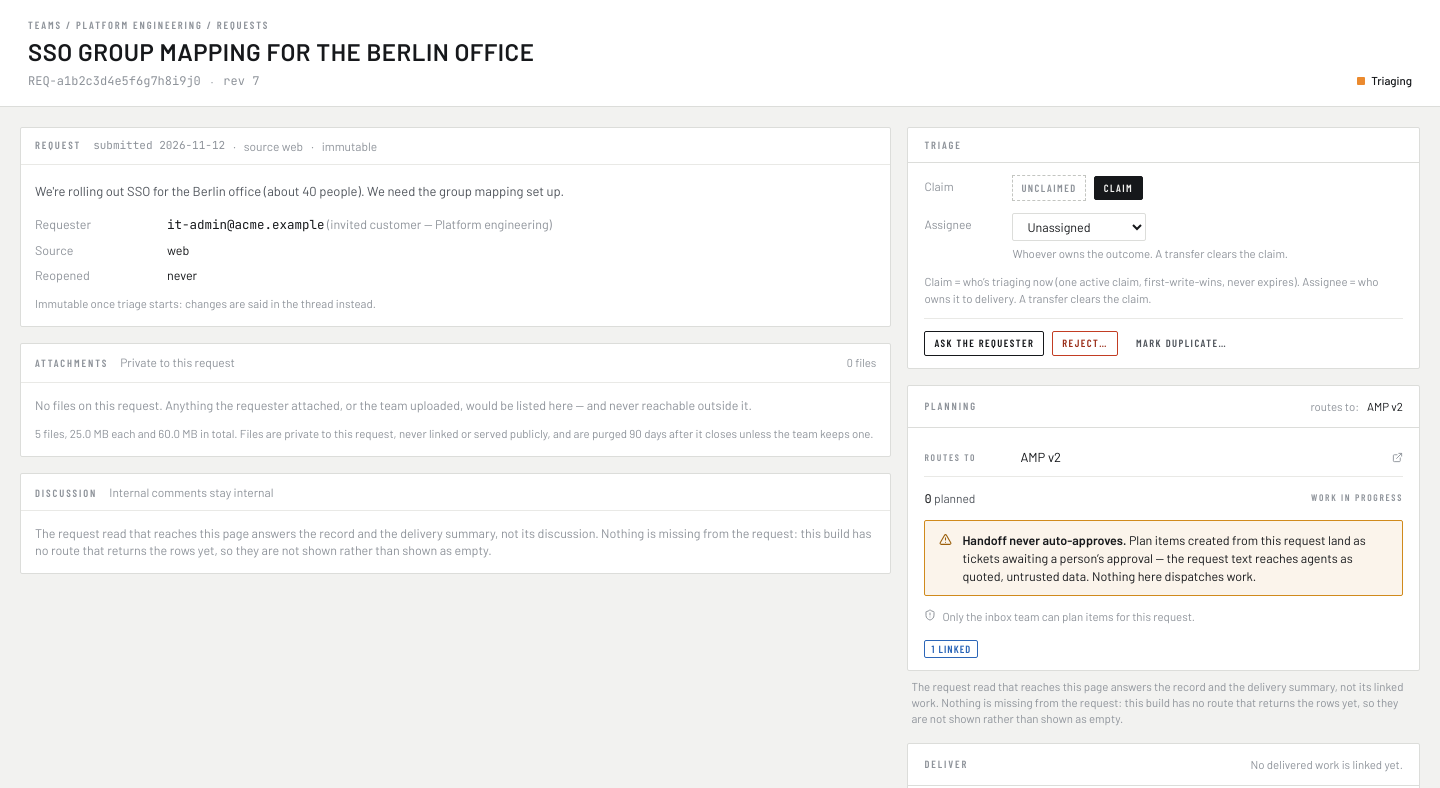
Test case: every approved detail state › re-reads the record on Refresh after a lost claim, so the winner’s claim is what the rail shows
The image size is (1440, 788).
Click the button "Claim": (1118, 188) [1094,176,1143,200]
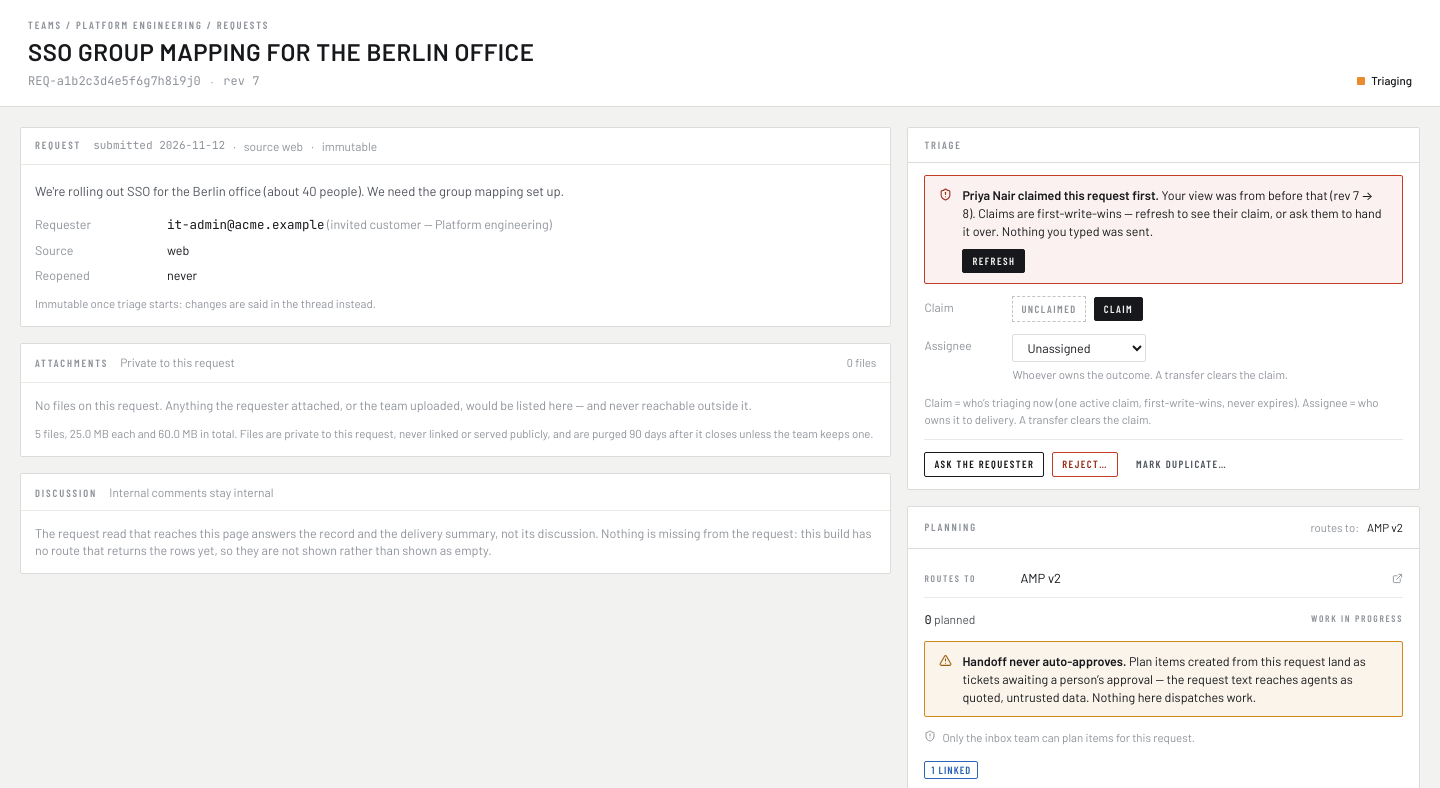
Note: Refresh is the offered action, and it is what moves the rail.
Click the button "Refresh": (994, 261) [962,249,1025,273]
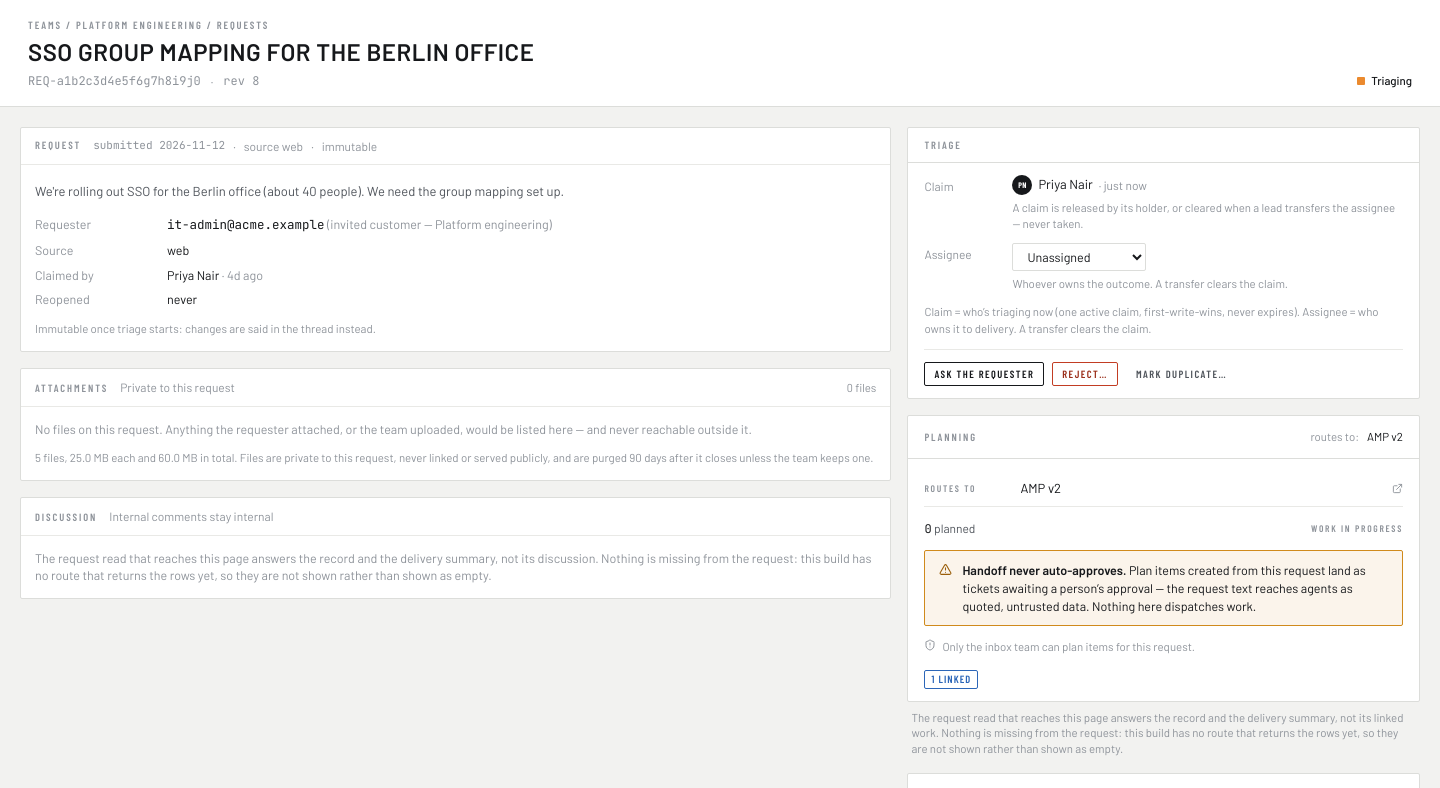
Now the text "Priya Nair" is shown, box [1038,175,1093,195]
